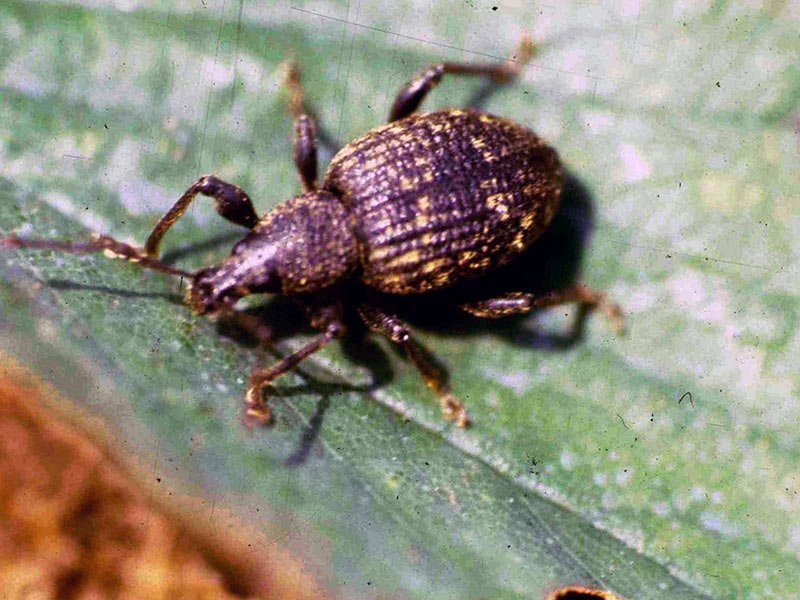dolgonosik: (143, 34, 624, 435)
